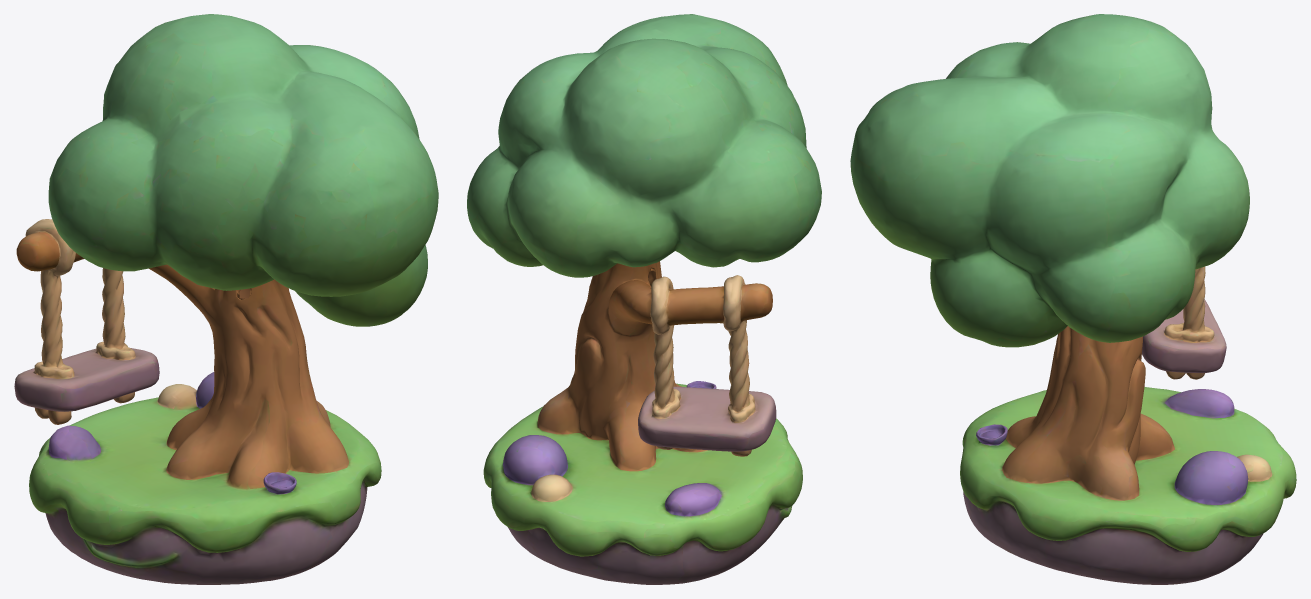
File: item_swingtree.glb
3 renders of one model, left to right at view 1: azimuth 30°, elevation 25°; view 2: azimuth 150°, elevation 25°; view 3: azimuth 270°, elevation 25°, orthographic. The views are drawn at different scales.
Visible parts, largest first — view 1: geometry_0; view 2: geometry_0; view 3: geometry_0.
Boxes of the visible parts, box(x1,y1,x2,y2) form: geometry_0: box(14, 14, 438, 584); geometry_0: box(467, 14, 821, 584); geometry_0: box(850, 14, 1296, 584).
Bounding box in the file's own units: 0.6338 × 0.8922 × 0.7032.
1 material, 1 textured.
